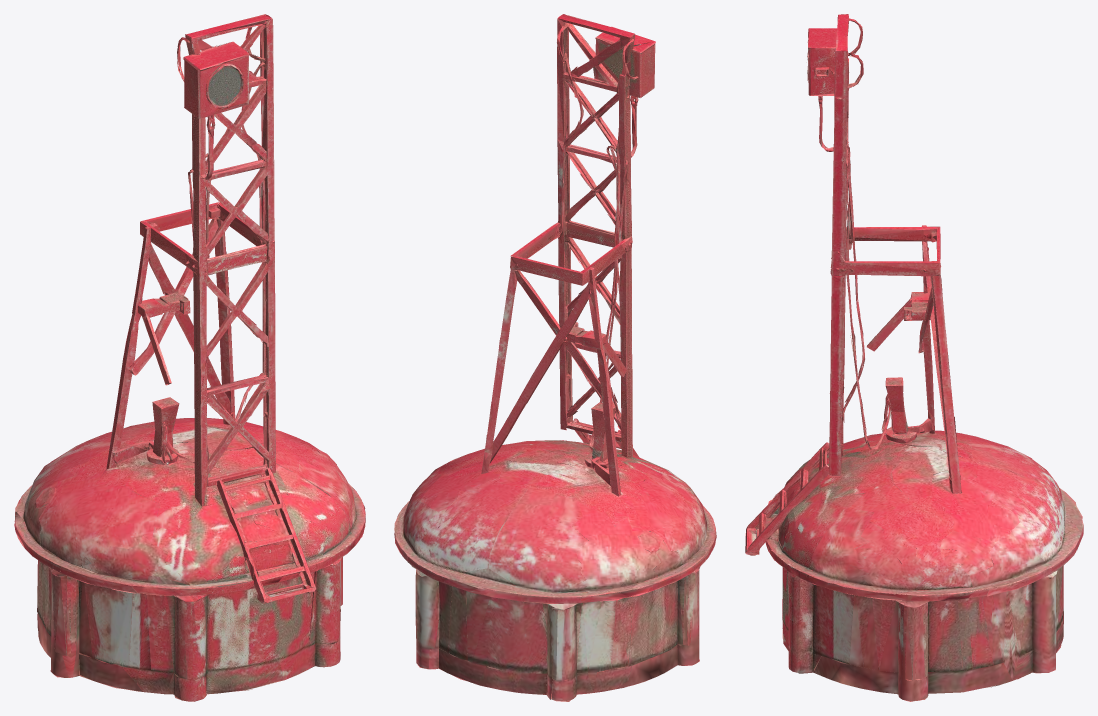
Rendered from boia-mar.glb.
The picture shows the model from 3 angles, left to right: view 1: azimuth 30°, elevation 25°; view 2: azimuth 150°, elevation 25°; view 3: azimuth 270°, elevation 25°; orthographic projection. The views are drawn at different scales.
Visible parts, largest first — view 1: boia-mar; view 2: boia-mar; view 3: boia-mar.
Part boxes in pixels (x1,y1,x2,y2): boia-mar: (14,14,365,701); boia-mar: (394,14,716,701); boia-mar: (745,14,1083,701).
Bounding box in the file's own units: 1.6 × 3.2 × 1.63.
Materials: 1 (1 with a texture image).
